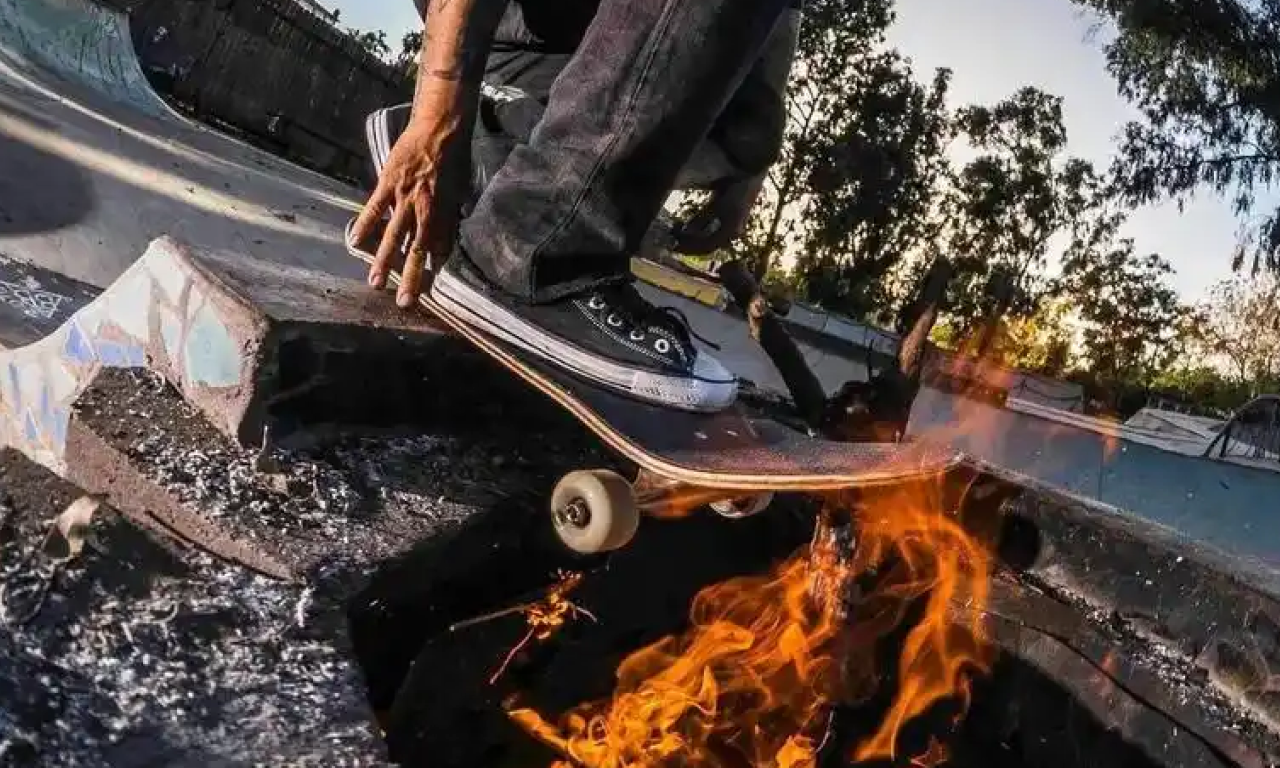fire: (507, 229, 1067, 759)
